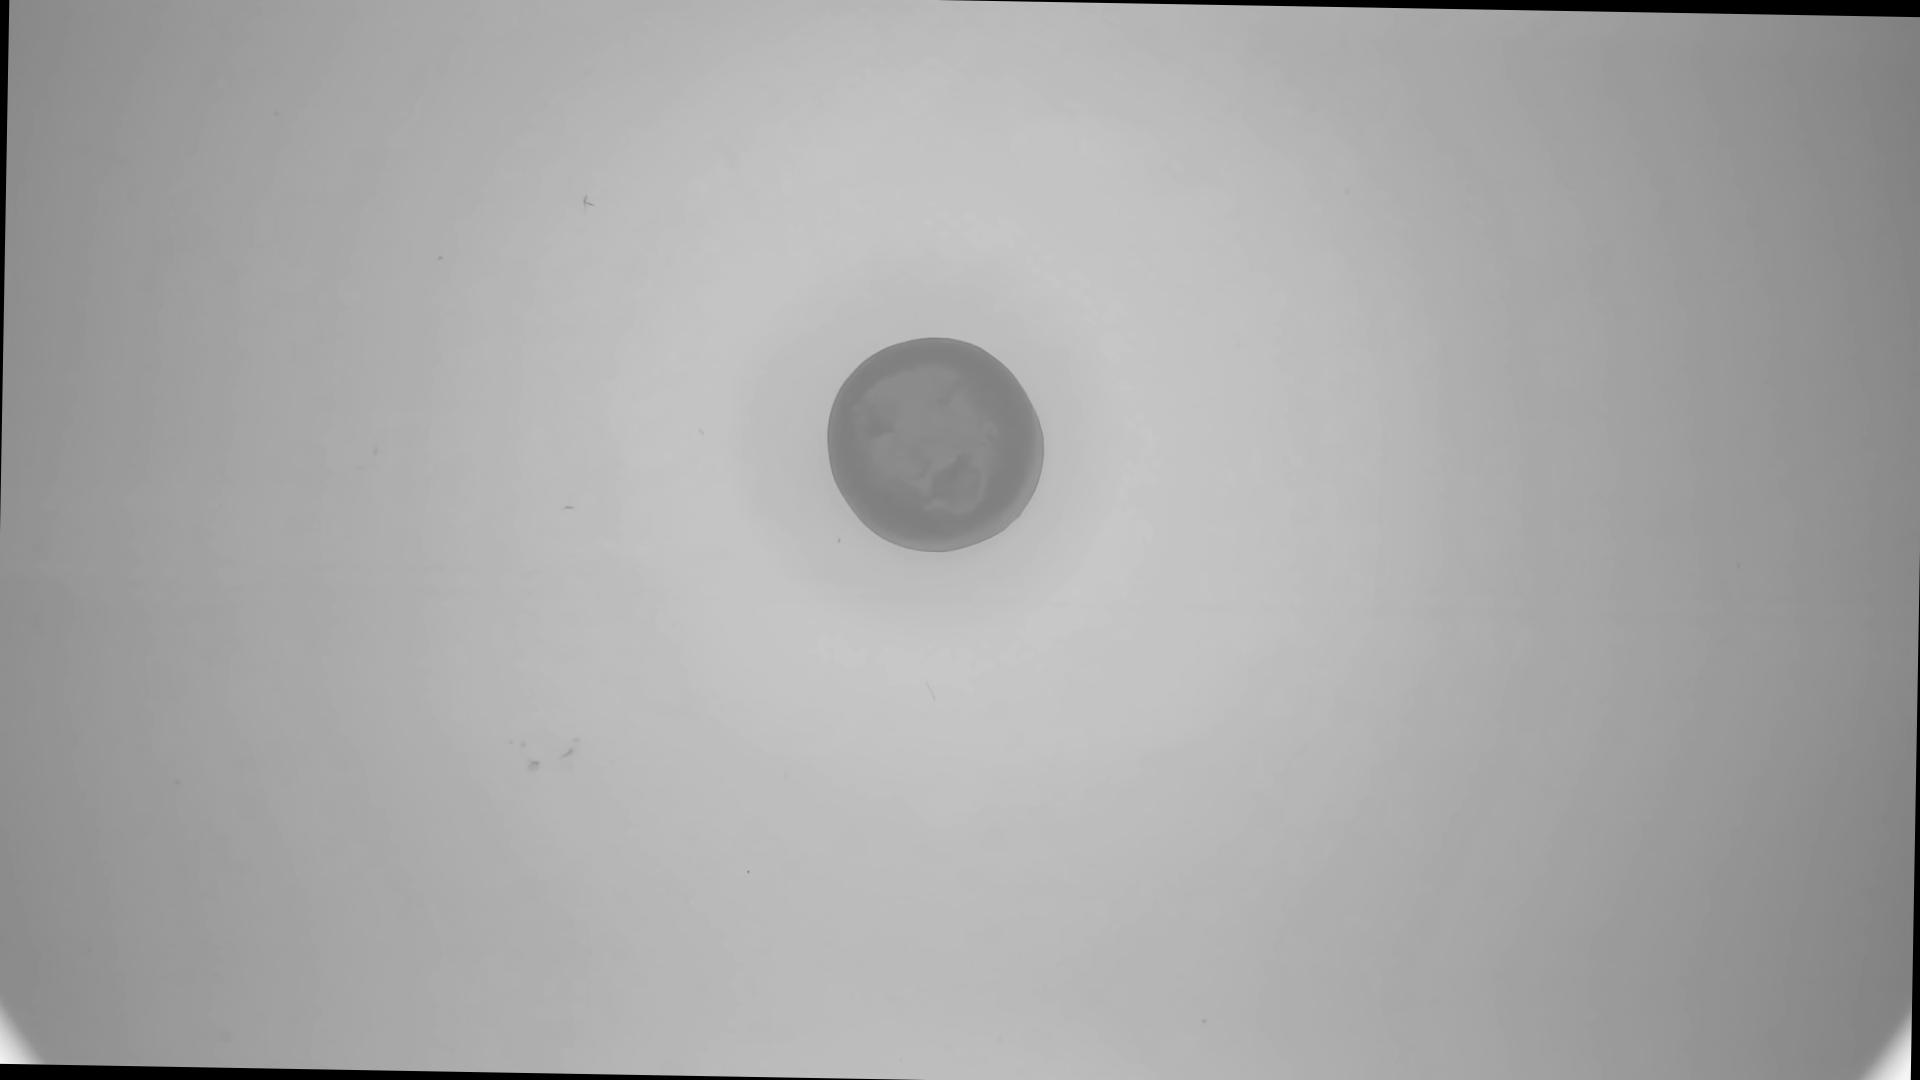abnormal: (825, 334, 1050, 556)
